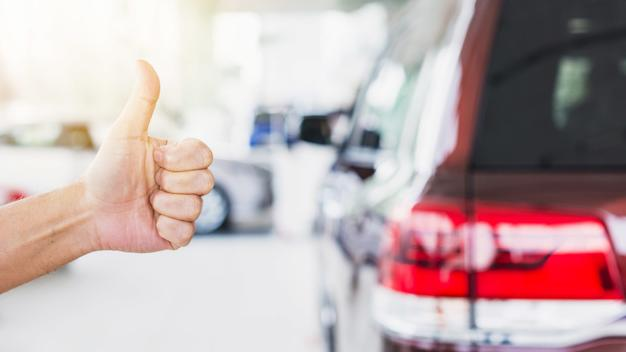thumbsup: (121, 59, 214, 253)
